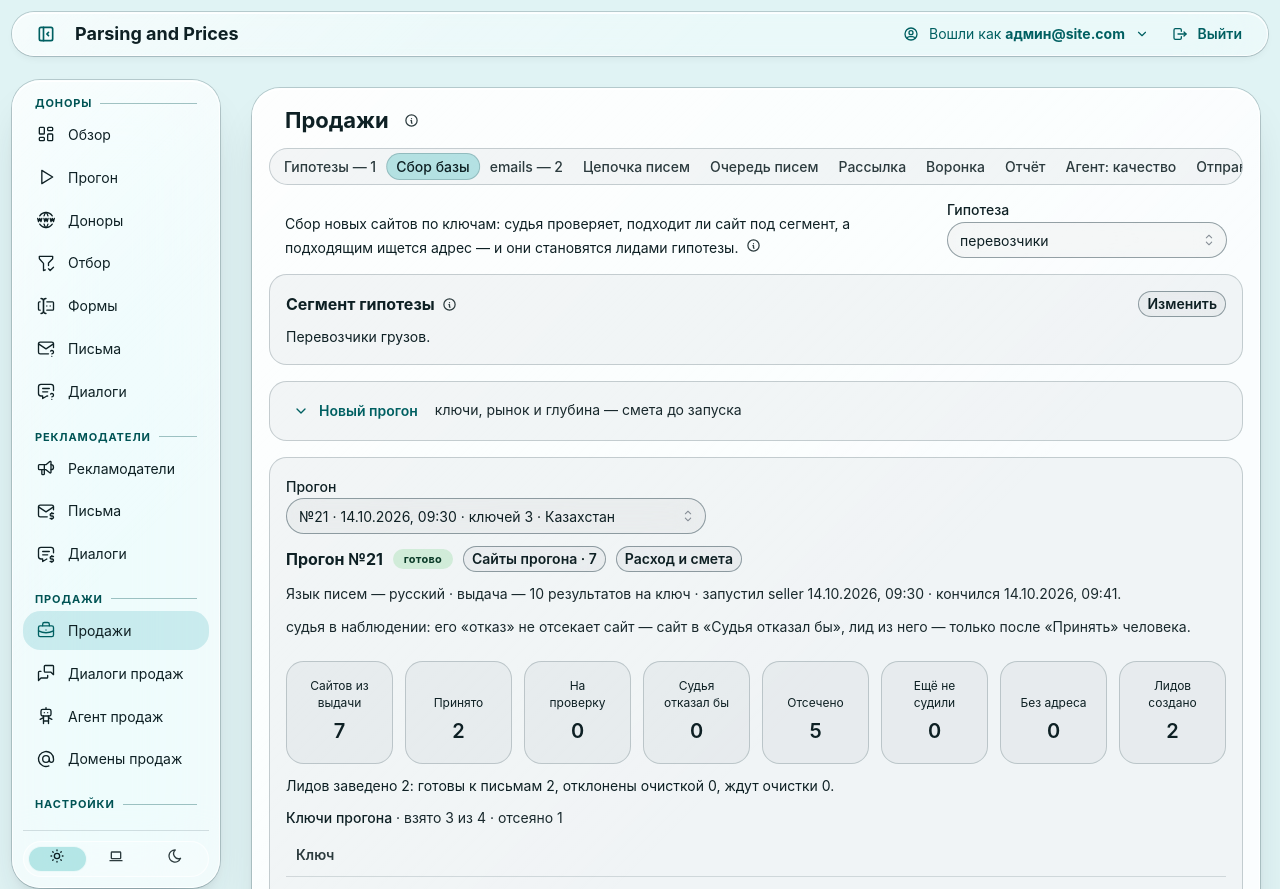
Test: сбор базы: ключи и расход в отчёте прогона › расход статьями: факт и смета на запуске словами сервера; Hunter — не в деньгах
Expected: the heading "Прогон №21" is shown, [286, 547, 383, 571]
Expected: the element "Расход прогона" is not shown
Click the button "Расход и смета".
click(679, 559)  # box [616, 546, 742, 572]
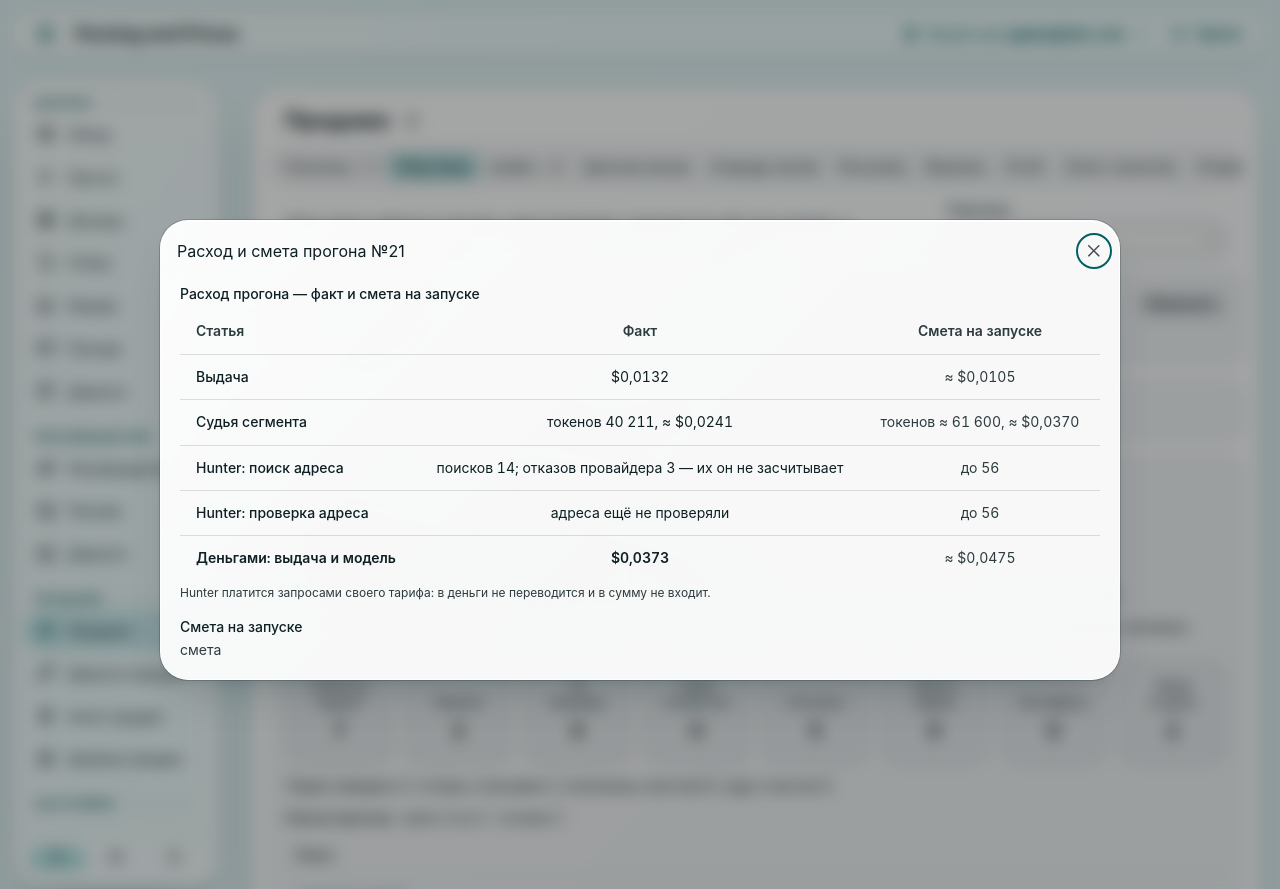
Result: the text "Hunter платится запросами своего тарифа: в деньги не переводится и в сумму не входит." is shown at [180, 584, 711, 600]
Result: the text "смета" is shown at [180, 641, 221, 658]
